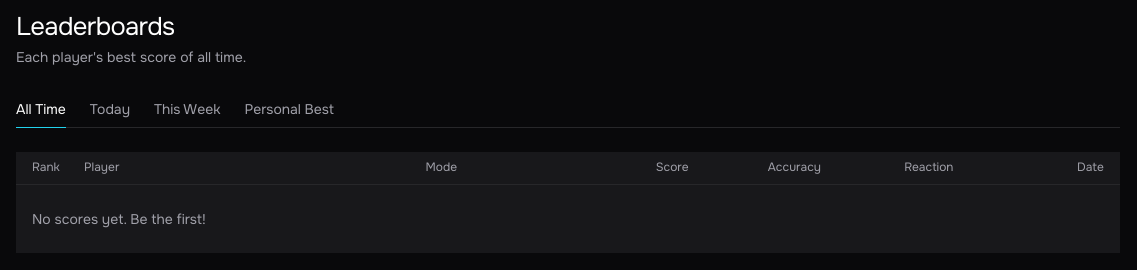
it: Leaderboards › asks a visitor to sign in for their personal bests
Click the tab "Personal Best" at [289, 109], box [244,91,334,128]
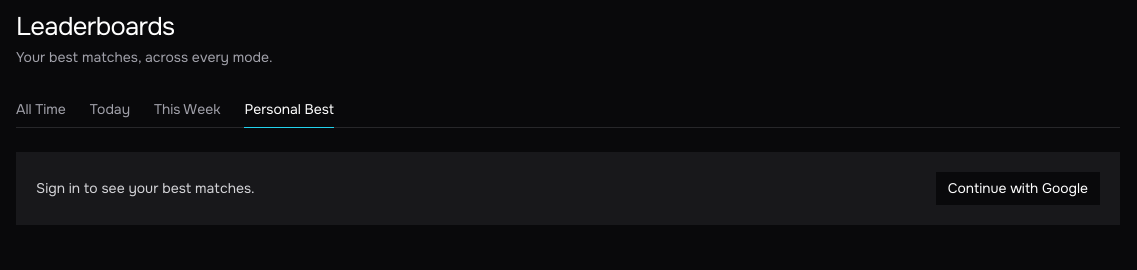
Now the text "Sign in to see your best matches." is shown, box [36,178,255,198]
Now the table is gone
